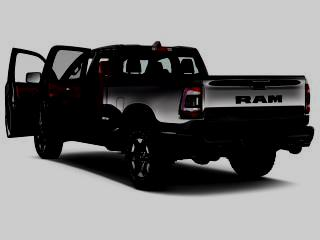ram: (231, 92, 290, 106)
